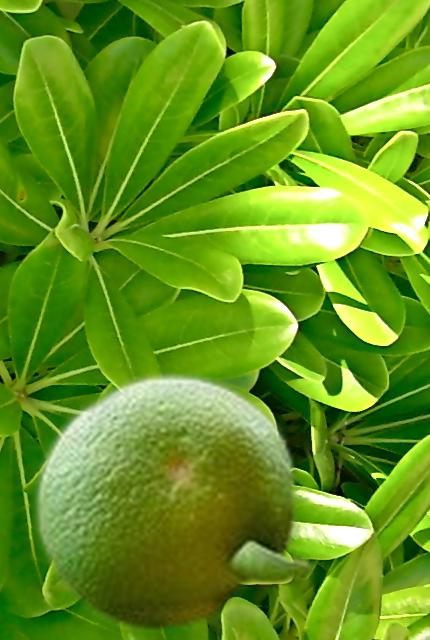dalandan: (31, 368, 317, 631)
